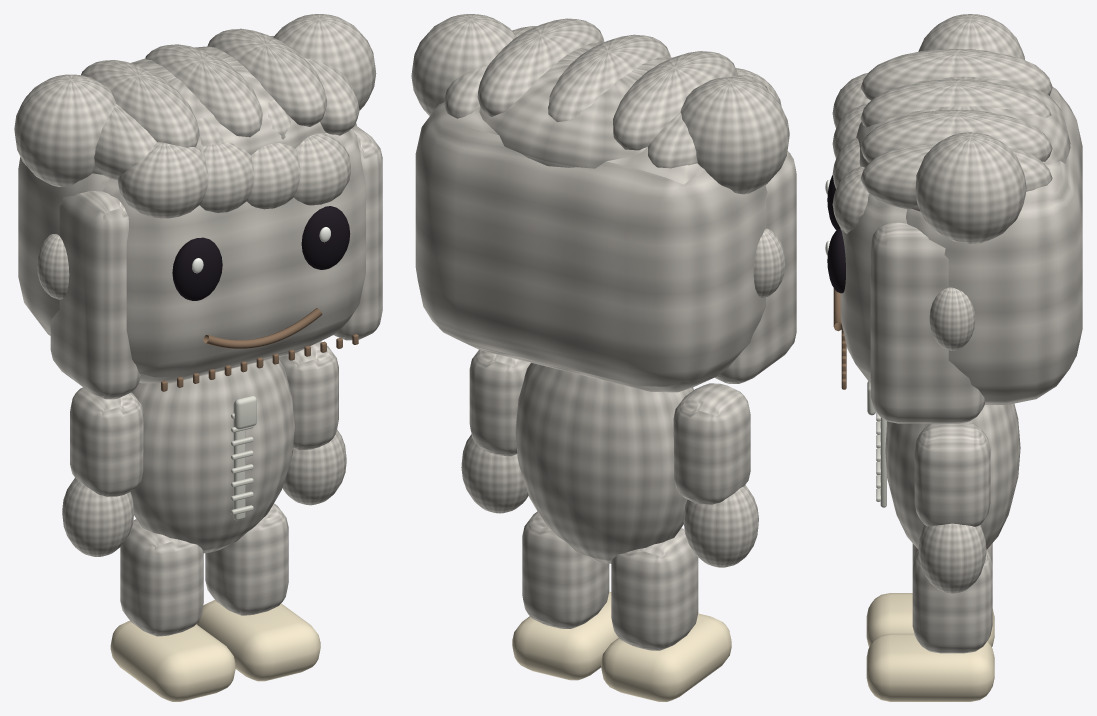
Rendered from kairos-cloth-resident.glb.
3 renders of one model, left to right at view 1: azimuth 30°, elevation 25°; view 2: azimuth 150°, elevation 25°; view 3: azimuth 270°, elevation 25°, orthographic. The views are drawn at different scales.
Visible parts, largest first — view 1: ClothHead, BobSide, SoftBody, CurlyTuft, Fringe, HairBun, TrouserLeg, RoundedShoe, Sleeve, TrouserLeg.001, RoundedShoe.001, ButtonEye (+5 smaller); view 2: BobSide, SoftBody, CurlyTuft, HairBun, Fringe, TrouserLeg, Sleeve, TrouserLeg.001, RoundedShoe, RoundedShoe.001, Sleeve.001, MittenHand (+2 smaller); view 3: BobSide, CurlyTuft, HairBun, Sleeve.001, Fringe, ClothHead, SoftBody, RoundedShoe.001, TrouserLeg.001, MittenHand.001, RoundedShoe, ButtonEye (+2 smaller).
Part boxes in pixels (left/top/right/bottom): ClothHead: left=37, top=128, right=365, bottom=383; BobSide: left=18, top=122, right=382, bottom=399; SoftBody: left=130, top=358, right=294, bottom=553; CurlyTuft: left=81, top=28, right=359, bottom=180; Fringe: left=95, top=46, right=350, bottom=218; HairBun: left=14, top=14, right=376, bottom=186; TrouserLeg: left=120, top=519, right=203, bottom=636; RoundedShoe: left=110, top=620, right=235, bottom=701; Sleeve: left=70, top=387, right=143, bottom=496; TrouserLeg.001: left=205, top=503, right=288, bottom=615; RoundedShoe.001: left=196, top=600, right=320, bottom=681; ButtonEye: left=172, top=206, right=350, bottom=300; BobSide: left=415, top=102, right=796, bottom=392; SoftBody: left=515, top=363, right=693, bottom=563; CurlyTuft: left=443, top=18, right=768, bottom=168; HairBun: left=411, top=14, right=789, bottom=194; Fringe: left=479, top=42, right=781, bottom=168; TrouserLeg: left=611, top=528, right=698, bottom=650; Sleeve: left=673, top=383, right=750, bottom=504; TrouserLeg.001: left=522, top=511, right=609, bottom=628; RoundedShoe: left=601, top=613, right=731, bottom=701; RoundedShoe.001: left=512, top=591, right=618, bottom=680; Sleeve.001: left=469, top=350, right=530, bottom=456; MittenHand: left=683, top=485, right=758, bottom=567; BobSide: left=870, top=87, right=1082, bottom=423; CurlyTuft: left=860, top=49, right=1052, bottom=209; HairBun: left=912, top=14, right=1070, bottom=243; Sleeve.001: left=914, top=422, right=990, bottom=526; Fringe: left=832, top=72, right=1070, bottom=233; ClothHead: left=840, top=193, right=975, bottom=383; SoftBody: left=885, top=403, right=1020, bottom=549; RoundedShoe.001: left=866, top=633, right=994, bottom=701; TrouserLeg.001: left=912, top=549, right=992, bottom=653; MittenHand.001: left=918, top=523, right=986, bottom=593; RoundedShoe: left=866, top=593, right=994, bottom=646; ButtonEye: left=827, top=175, right=845, bottom=293.
Size of the model in its own units: 0.98 by 1.63 by 0.643.
9 materials, 4 textured.
